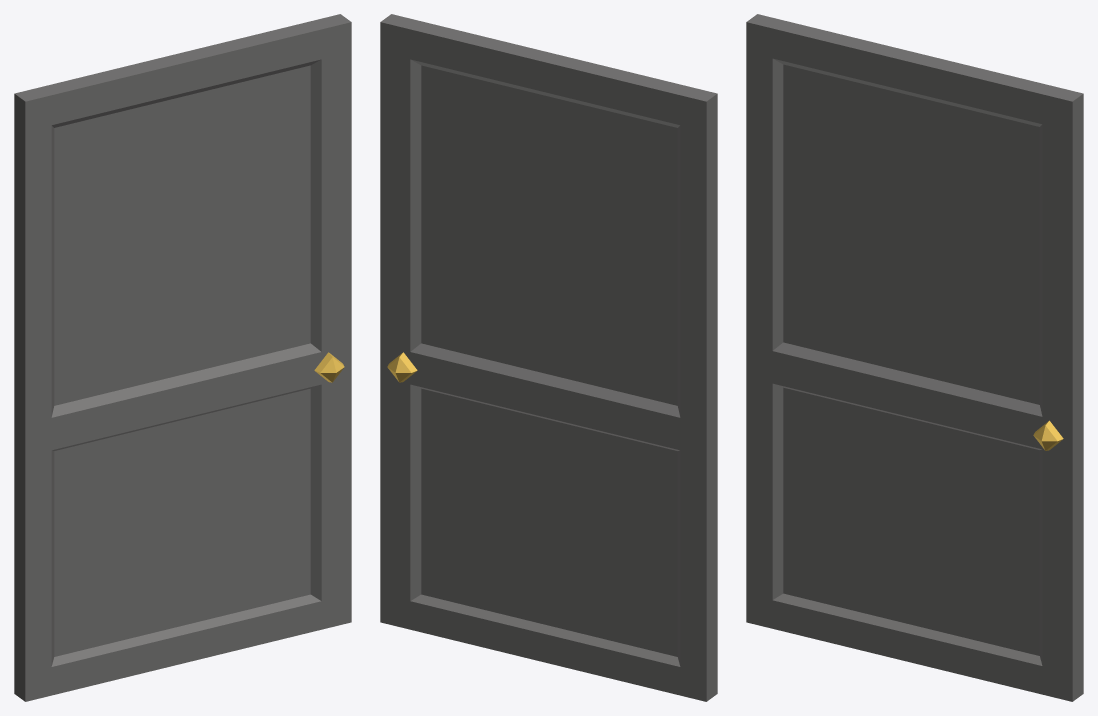
The model's file is Door_2B.fbx.
The picture shows the model from 3 angles, left to right: view 1: azimuth 30°, elevation 25°; view 2: azimuth 150°, elevation 25°; view 3: azimuth 330°, elevation 25°; orthographic projection.
Parts seen in each view (by area): view 1: polySurface1644; view 2: polySurface1644; view 3: polySurface1644.
Boxes of the visible parts, left/top/right/bottom form: polySurface1644: left=14, top=14, right=351, bottom=701; polySurface1644: left=380, top=14, right=717, bottom=701; polySurface1644: left=746, top=14, right=1083, bottom=701.
Bounding box in the file's own units: 1.7 × 2.99 × 0.243.
1 material, 1 textured.
